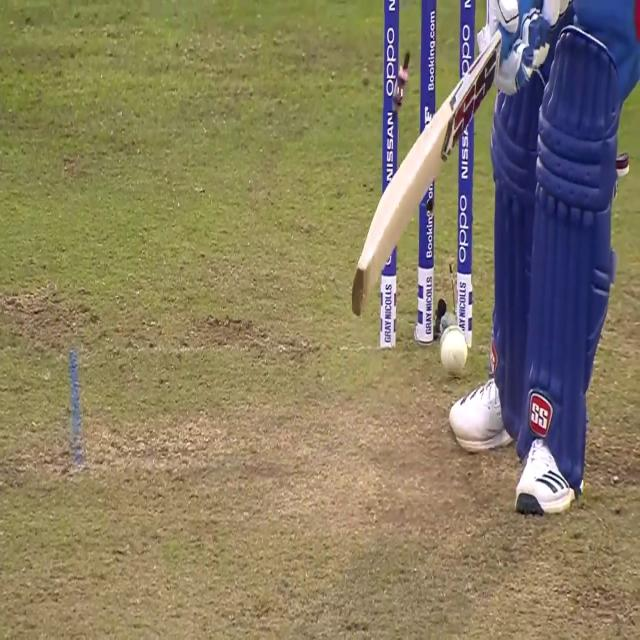ball: (441, 327, 467, 372)
